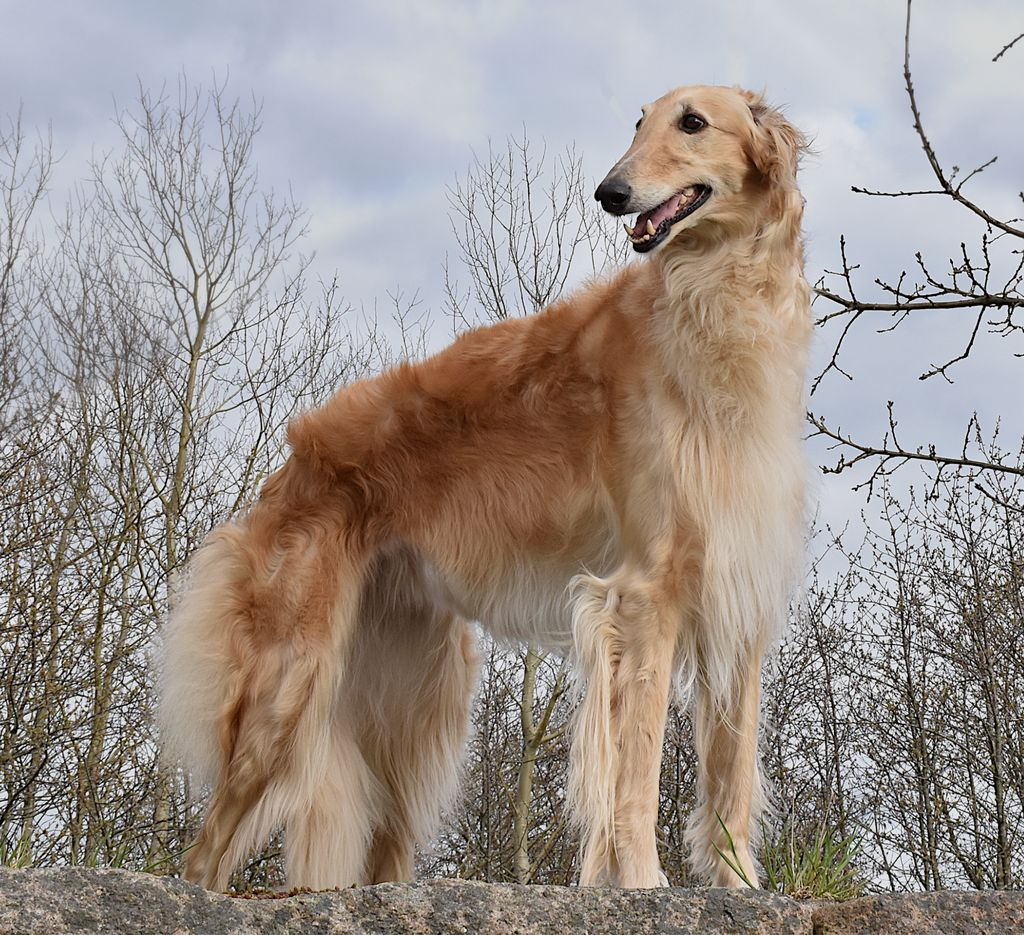borzoi: (130, 67, 874, 905)
